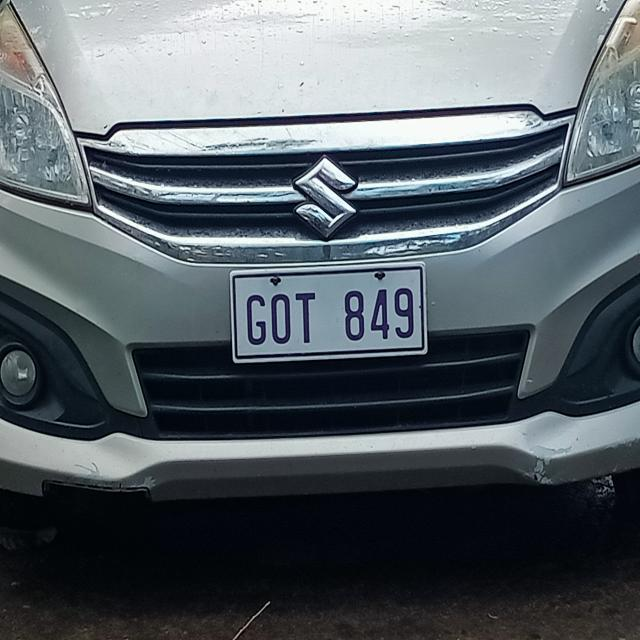plate: (228, 259, 429, 367)
